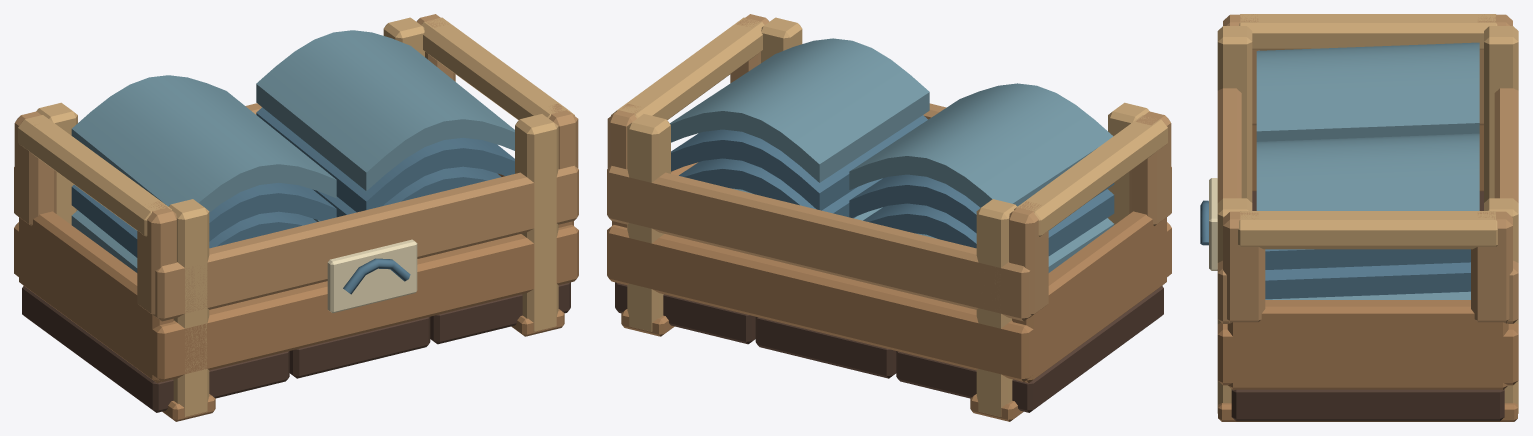
Rendered from goods_tiles_slateblue_crate.glb.
3 views of the same model, side by side, from view 1: azimuth 30°, elevation 25°; view 2: azimuth 150°, elevation 25°; view 3: azimuth 270°, elevation 25° (orthographic).
Parts seen in each view (by area): view 1: goods_tiles_slateblue_crate; view 2: goods_tiles_slateblue_crate; view 3: goods_tiles_slateblue_crate.
Part boxes in pixels (x1,y1,x2,y2): goods_tiles_slateblue_crate: (14,14,578,421); goods_tiles_slateblue_crate: (607,14,1171,421); goods_tiles_slateblue_crate: (1200,14,1518,421).
Bounding box in the file's own units: 0.654 × 0.329 × 0.4135.
